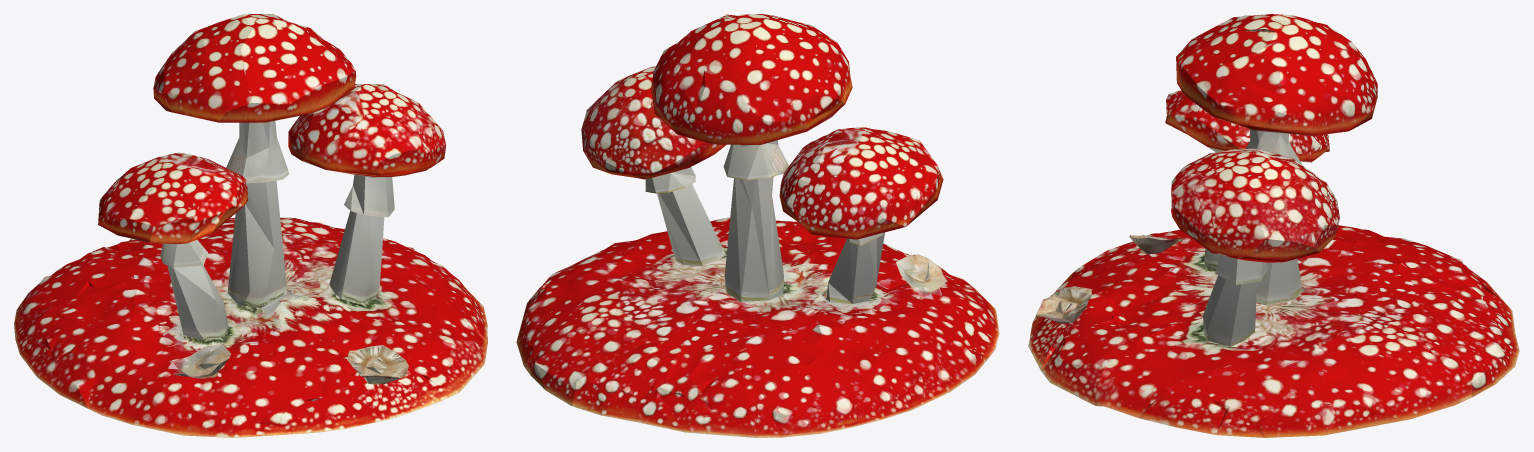
3 views of the same model, side by side, from view 1: azimuth 30°, elevation 25°; view 2: azimuth 150°, elevation 25°; view 3: azimuth 270°, elevation 25° (orthographic).
Bounding box in the file's own units: 1.71 × 1.23 × 1.73.
Materials: 1 (1 with a texture image).
